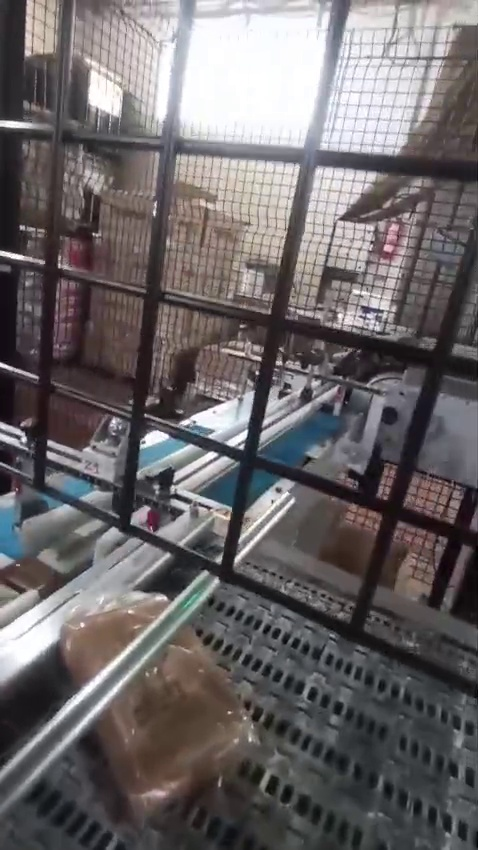savon: (116, 630, 246, 788), (70, 605, 160, 664), (104, 196, 146, 236), (183, 310, 218, 348), (385, 562, 426, 592), (449, 82, 478, 112), (186, 206, 210, 240), (179, 180, 212, 204), (279, 240, 297, 277), (20, 564, 47, 587), (458, 108, 478, 136), (166, 330, 177, 374), (221, 253, 234, 288), (110, 296, 138, 312), (324, 538, 340, 564), (218, 224, 238, 244), (177, 276, 198, 291), (370, 191, 384, 208), (113, 353, 126, 370)
